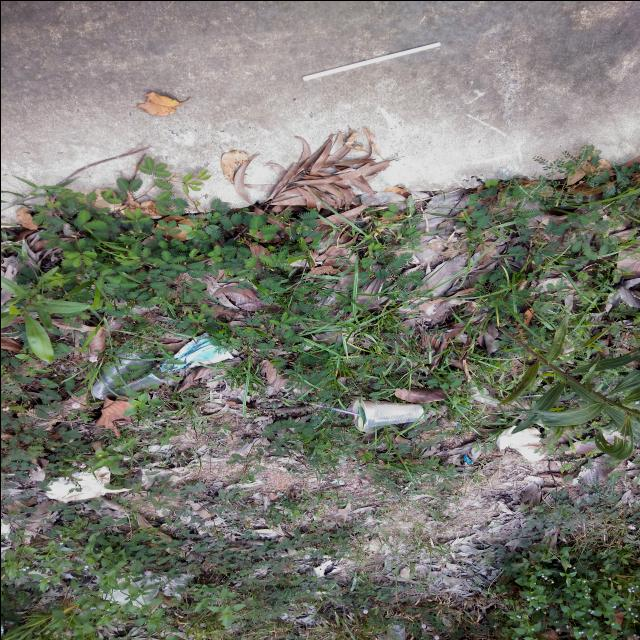Disposable plastic cup: (92, 349, 166, 399), (352, 398, 424, 430)
Other plastic: (463, 454, 472, 463)
Plastic straw: (302, 41, 440, 80), (301, 400, 359, 416)
Unlabeled litter: (43, 466, 134, 503), (158, 331, 233, 372), (495, 424, 544, 460)
